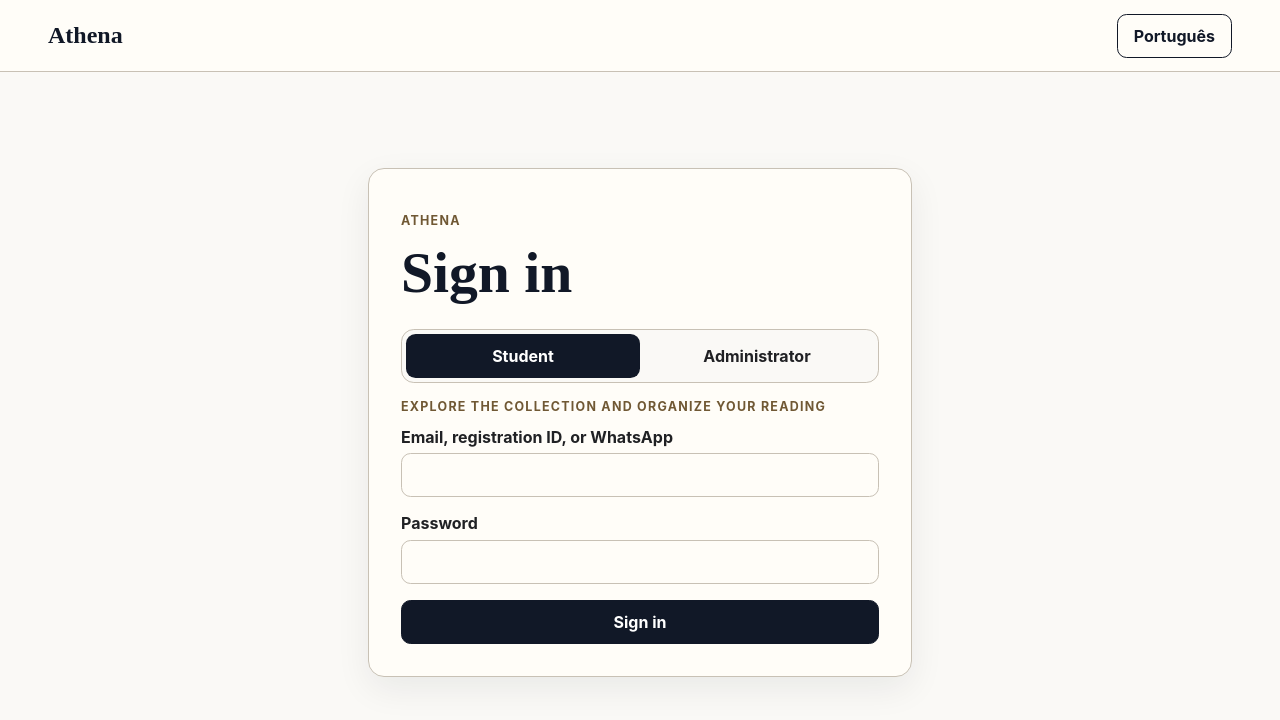
it: App › authenticates without persisting the token in browser storage
Type "reader@example.com" into the field labelled "Email, registration ID, or WhatsApp". click: (640, 475)
box: [401,453,879,497]
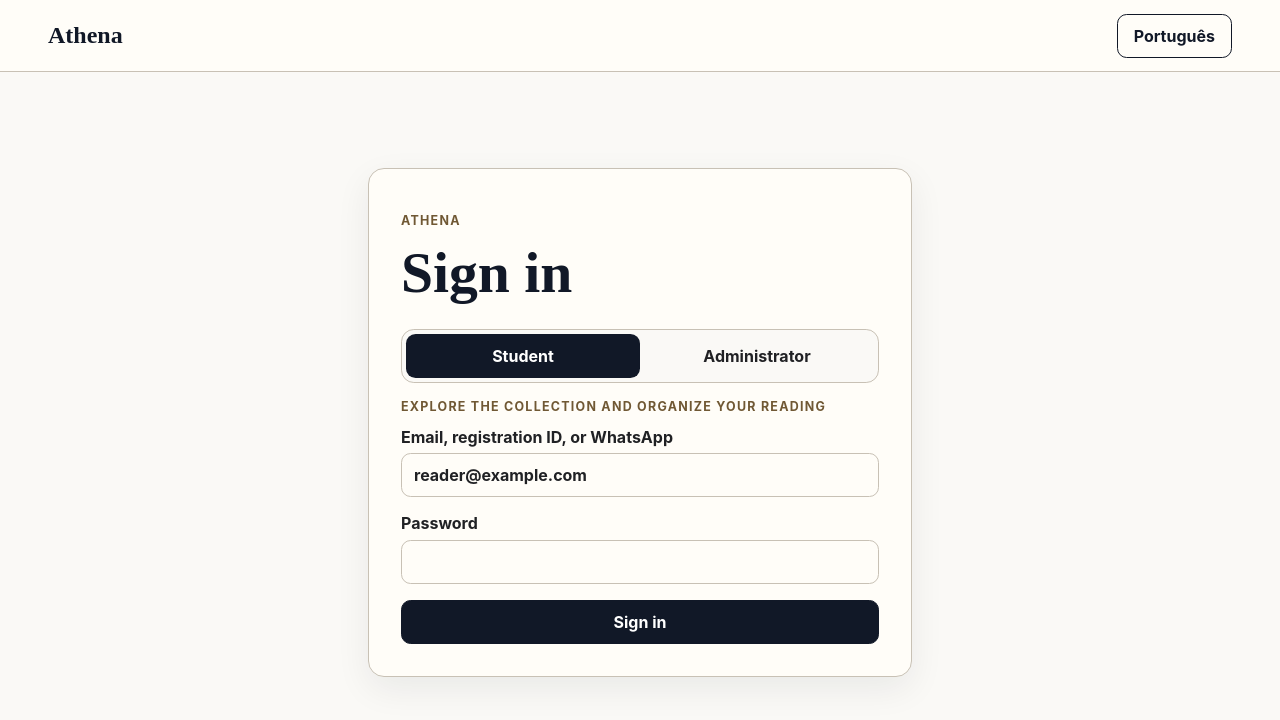
Type "a valid library passphrase" into the password field labelled "Password". click: (640, 562)
box: [401,540,879,584]
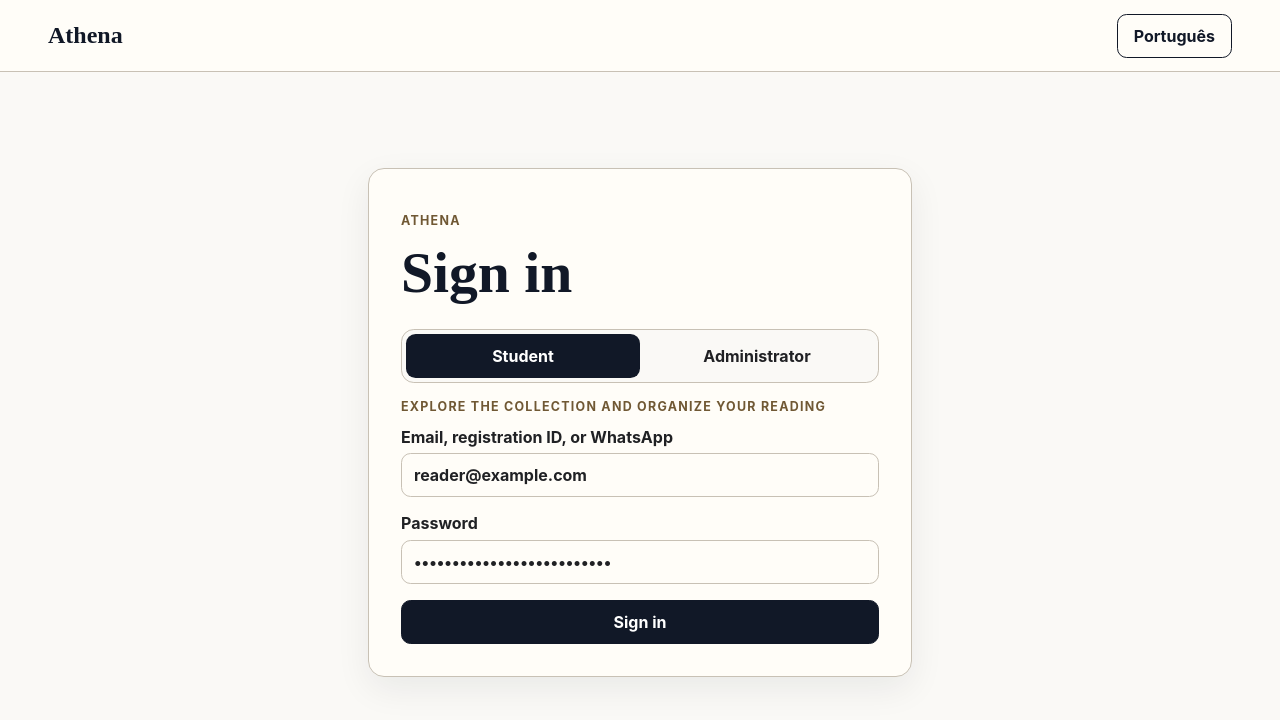
Click the button "Sign in". click: click(640, 622)
box: [401,600,879,644]
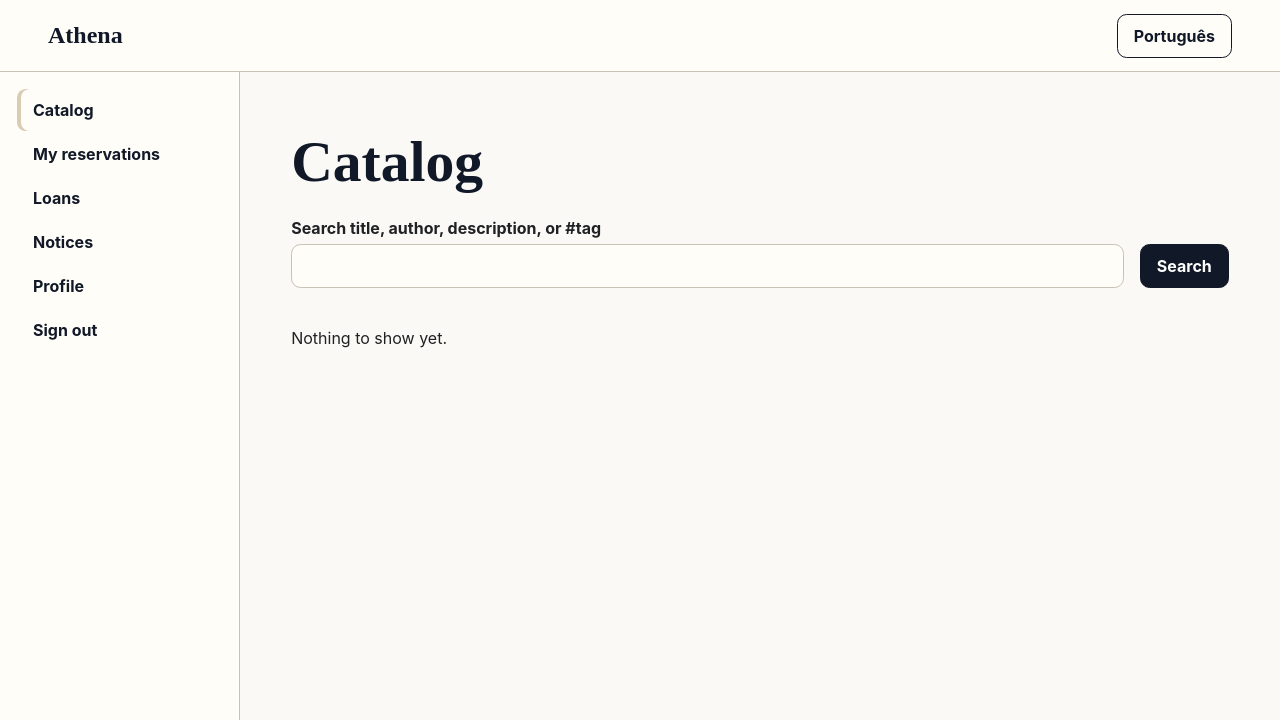
Result: the heading "Catalog" is shown at [291,130,483,193]
